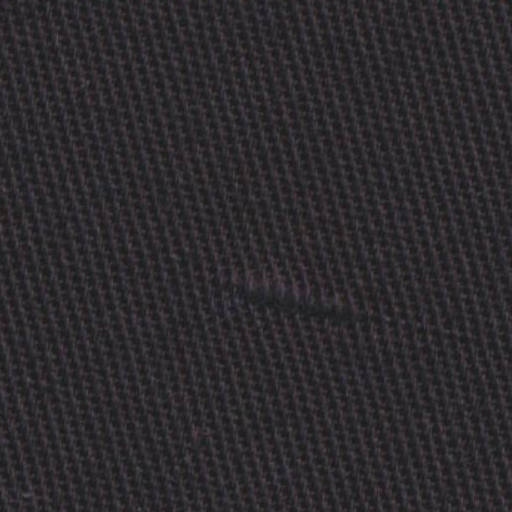DaiSha: (200, 245, 398, 340)
